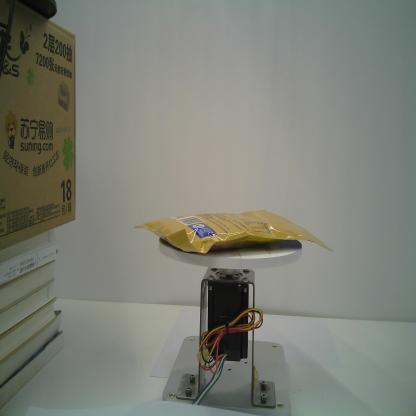Dried Fruit: (132, 209, 337, 256)
